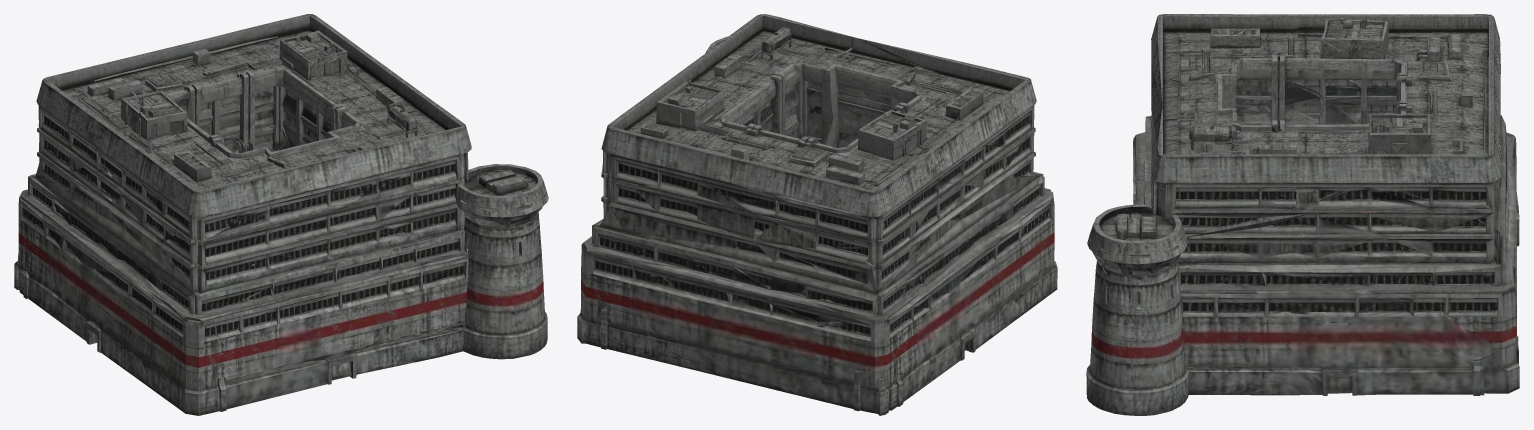
The model's file is lothalblock.glb.
3 views of the same model, side by side, from view 1: azimuth 30°, elevation 25°; view 2: azimuth 150°, elevation 25°; view 3: azimuth 270°, elevation 25° (orthographic). The views are drawn at different scales.
Visible parts, largest first — view 1: lothalblock-centred; view 2: lothalblock-centred; view 3: lothalblock-centred.
Boxes of the visible parts, box(x1,y1,x2,y2) form: lothalblock-centred: box(14, 14, 548, 415); lothalblock-centred: box(577, 14, 1057, 415); lothalblock-centred: box(1086, 14, 1519, 415).
Size of the model in its own units: 39.38 by 24 by 38.68.
Materials: 1 (1 with a texture image).
